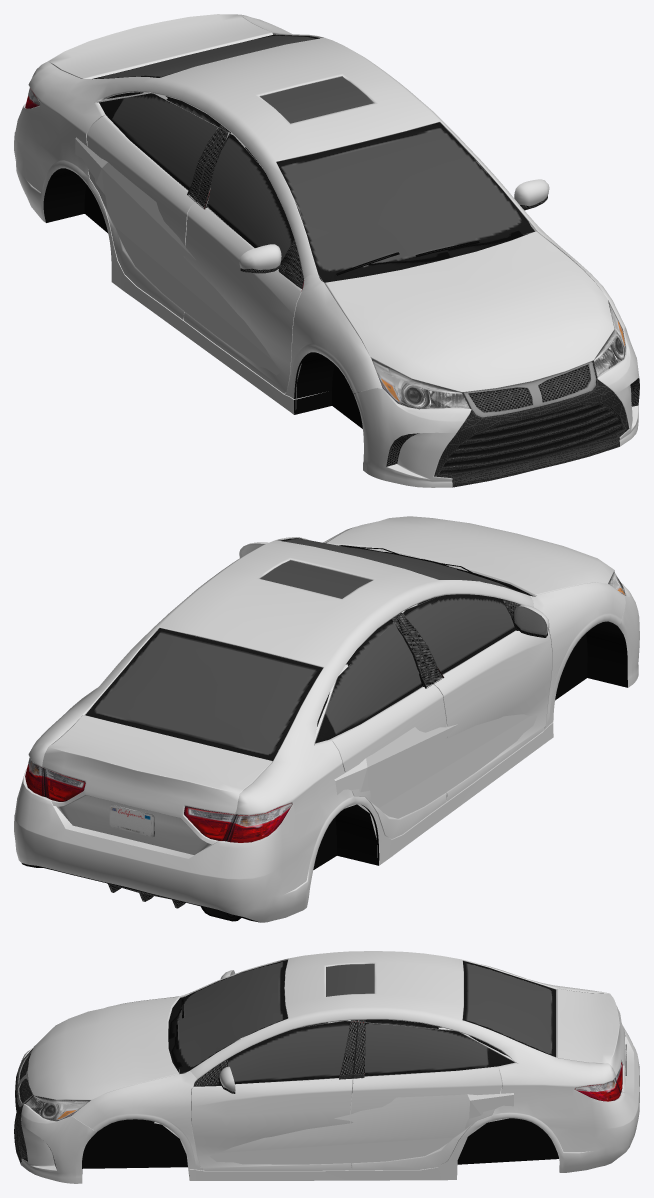
The model's file is Sedan.fbx.
3 renders of one model, top to bottom at view 1: azimuth 30°, elevation 25°; view 2: azimuth 150°, elevation 25°; view 3: azimuth 270°, elevation 25°, orthographic. The views are drawn at different scales.
Visible parts, largest first — view 1: body, body_interior_low, light_front; view 2: body, body_interior_low, light_brakes; view 3: body, body_interior_low, light_brakes, light_front.
Boxes of the visible parts, x1=… form: body: x1=14, y1=14, x2=639, y2=487; body_interior_low: x1=75, y1=34, x2=536, y2=409; light_front: x1=403, y1=334, x2=623, y2=408; body: x1=14, y1=516, x2=639, y2=922; body_interior_low: x1=88, y1=537, x2=537, y2=857; light_brakes: x1=25, y1=764, x2=292, y2=842; body: x1=14, y1=951, x2=639, y2=1183; body_interior_low: x1=154, y1=961, x2=517, y2=1179; light_brakes: x1=574, y1=1062, x2=622, y2=1101; light_front: x1=25, y1=1096, x2=57, y2=1117.
Size of the model in its own units: 194 by 126 by 456.
Materials: 4 (2 with a texture image).
